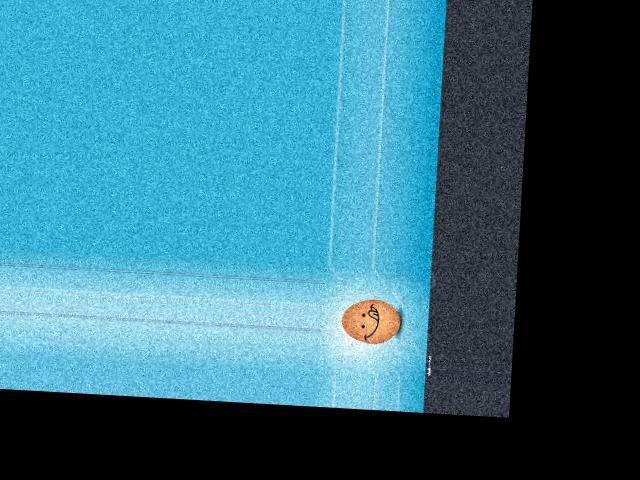egg: (340, 297, 401, 345)
